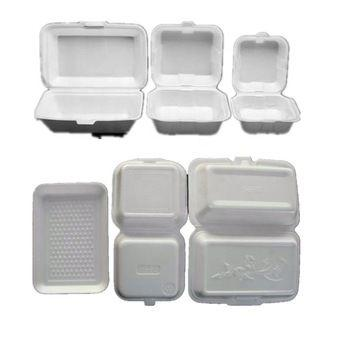PS: (189, 157, 301, 306), (35, 20, 149, 138), (111, 158, 187, 306), (146, 21, 231, 134), (33, 182, 108, 293), (229, 32, 302, 135)
